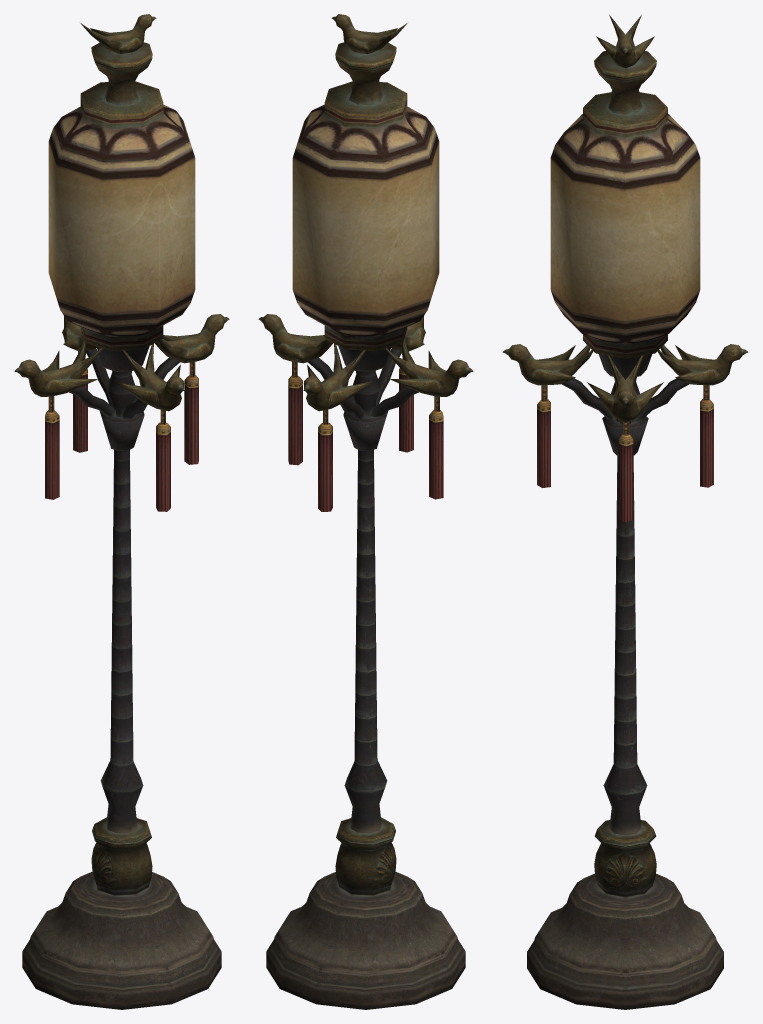
Rendered from Lamp.fbx.
3 views of the same model, side by side, from view 1: azimuth 30°, elevation 25°; view 2: azimuth 150°, elevation 25°; view 3: azimuth 270°, elevation 25° (orthographic).
Parts seen in each view (by area): view 1: deng_06; view 2: deng_06; view 3: deng_06.
Boxes of the visible parts, x1,y1,x2,y2 form: deng_06: (14, 14, 229, 1009); deng_06: (258, 14, 473, 1009); deng_06: (502, 14, 748, 1009).
Bounding box in the file's own units: 23.68 × 99.47 × 23.68.
Materials: 1 (1 with a texture image).
